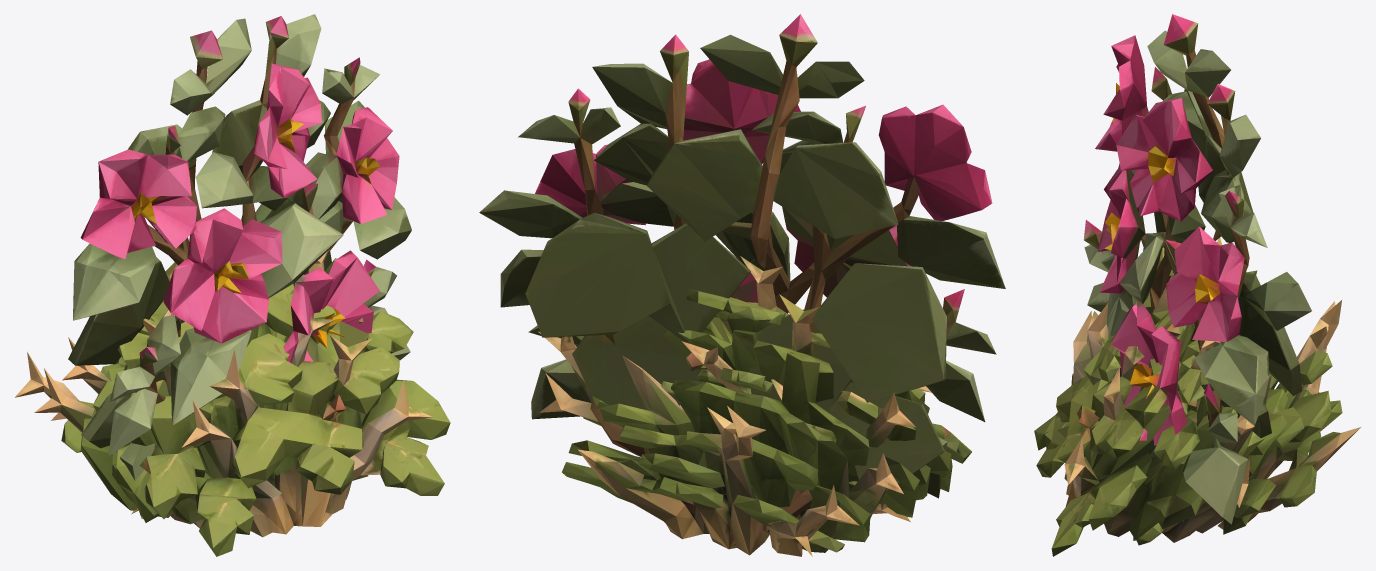
Rendered from plantas_betfage.glb.
The picture shows the model from 3 angles, left to right: view 1: azimuth 30°, elevation 25°; view 2: azimuth 150°, elevation 25°; view 3: azimuth 270°, elevation 25°; orthographic projection. The views are drawn at different scales.
Parts seen in each view (by area): view 1: Malva_Rosa, Moita_Espinhos_Grande; view 2: Malva_Rosa, Moita_Espinhos_Grande, Moita_Espinhos_Pequena; view 3: Malva_Rosa, Moita_Espinhos_Grande.
Boxes of the visible parts, box(x1,y1,x2,y2) form: Malva_Rosa: box(68, 14, 411, 518); Moita_Espinhos_Grande: box(15, 249, 450, 556); Malva_Rosa: box(479, 14, 1005, 531); Moita_Espinhos_Grande: box(538, 256, 971, 556); Moita_Espinhos_Pequena: box(661, 341, 910, 521); Malva_Rosa: box(1083, 14, 1311, 524); Moita_Espinhos_Grande: box(1034, 237, 1360, 556).
Bounding box in the file's own units: 1.51 × 1.7 × 1.07.
Materials: 2 (2 with a texture image).
